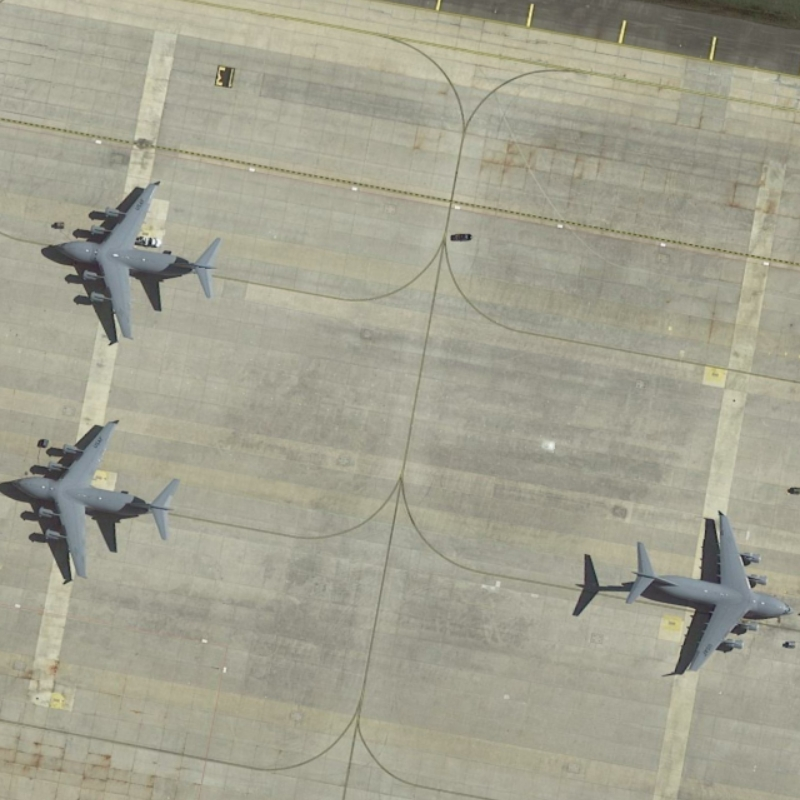A3: (40, 173, 224, 345), (617, 507, 795, 680), (4, 416, 181, 585)
